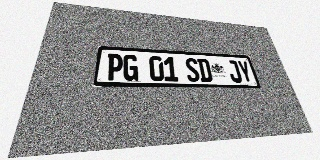0: (149, 56, 164, 81)
1: (163, 56, 178, 82)
D: (197, 58, 213, 82)
G: (123, 54, 138, 81)
J: (226, 60, 243, 83)
P: (106, 53, 123, 81)
S: (184, 58, 201, 82)
Y: (237, 61, 254, 83)
